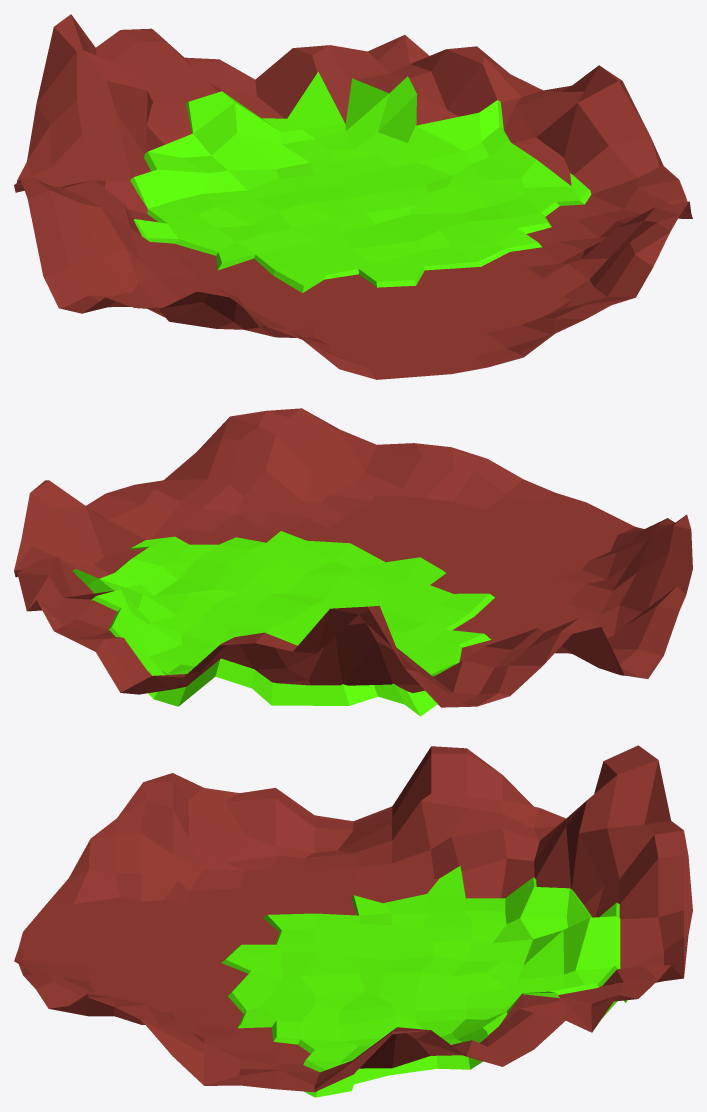
Rendered from Mars-One_map_terraforming_03.FBX.
3 views of the same model, one above another, from view 1: azimuth 30°, elevation 25°; view 2: azimuth 150°, elevation 25°; view 3: azimuth 270°, elevation 25° (orthographic).
Parts seen in each view (by area): view 1: Circle001; view 2: Circle001; view 3: Circle001.
Boxes of the visible parts, bbox=[...] form: Circle001: bbox=[14, 14, 692, 379]; Circle001: bbox=[14, 408, 692, 716]; Circle001: bbox=[14, 745, 692, 1097].
Bounding box in the file's own units: 413 × 107 × 414.
1 material, 1 textured.
